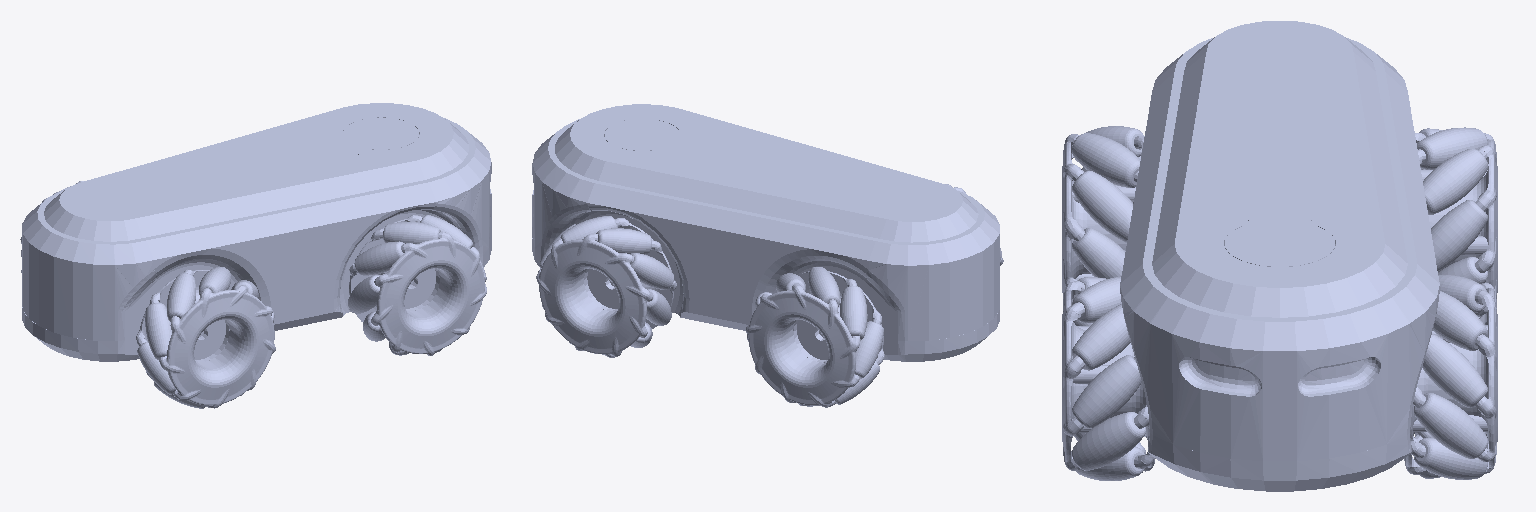
The robot description file, URDF, robot "ilo-urdf-7":
<?xml version="1.0" encoding="utf-8"?>
<!-- This URDF was automatically created by SolidWorks to URDF Exporter! Originally created by [author] ([email redacted]) 
     Commit Version: 1.6.0-1-g15f4949  Build Version: 1.6.7594.29634
     For more information, please see http://wiki.ros.org/sw_urdf_exporter -->
<robot
  name="ilo-urdf-7">
  <link
    name="base_link">
    <inertial>
      <origin
        xyz="0.00490783420918746 -5.30469796700128E-08 0.0315729776765226"
        rpy="0 0 0" />
      <mass
        value="0.250307144757034" />
      <inertia
        ixx="0.000213473192530182"
        ixy="4.01374626621353E-09"
        ixz="4.02178711493103E-07"
        iyy="0.00114651762472442"
        iyz="-7.2199668923163E-11"
        izz="0.00132229377723203" />
    </inertial>
    <visual>
      <origin
        xyz="0 0 0"
        rpy="0 0 0" />
      <geometry>
        <mesh
          filename="package://ilo-urdf-7/meshes/base_link.STL" />
      </geometry>
      <material
        name="">
        <color
          rgba="0.792156862745098 0.819607843137255 0.933333333333333 1" />
      </material>
    </visual>
    <collision>
      <origin
        xyz="0 0 0"
        rpy="0 0 0" />
      <geometry>
        <mesh
          filename="package://ilo-urdf-7/meshes/base_link.STL" />
      </geometry>
    </collision>
  </link>
  <link
    name="link1">
    <inertial>
      <origin
        xyz="1.11045059586756E-05 1.03928027443689E-05 -0.0179367481605297"
        rpy="0 0 0" />
      <mass
        value="0.0444760076473146" />
      <inertia
        ixx="4.7788268171649E-06"
        ixy="-3.2745602324075E-09"
        ixz="1.03909048511462E-10"
        iyy="4.77595974599419E-06"
        iyz="8.60070886222724E-11"
        izz="7.75483825455209E-06" />
    </inertial>
    <visual>
      <origin
        xyz="0 0 0"
        rpy="0 0 0" />
      <geometry>
        <mesh
          filename="package://ilo-urdf-7/meshes/link1.STL" />
      </geometry>
      <material
        name="">
        <color
          rgba="0.792156862745098 0.819607843137255 0.933333333333333 1" />
      </material>
    </visual>
    <collision>
      <origin
        xyz="0 0 0"
        rpy="0 0 0" />
      <geometry>
        <mesh
          filename="package://ilo-urdf-7/meshes/link1.STL" />
      </geometry>
    </collision>
  </link>
  <joint
    name="wheel-BR"
    type="continuous">
    <origin
      xyz="-0.056 -0.034 0.0136"
      rpy="-1.5708 -0.56296 0" />
    <parent
      link="base_link" />
    <child
      link="link1" />
    <axis
      xyz="0 0 1" />
  </joint>
  <link
    name="link2">
    <inertial>
      <origin
        xyz="1.11050020291936E-05 1.03925947268213E-05 0.0163580139726555"
        rpy="0 0 0" />
      <mass
        value="0.0444760065822957" />
      <inertia
        ixx="4.77882675709365E-06"
        ixy="-3.27470608223607E-09"
        ixz="1.03956878758499E-10"
        iyy="4.77595930805196E-06"
        iyz="8.59883541902259E-11"
        izz="7.75483776984197E-06" />
    </inertial>
    <visual>
      <origin
        xyz="0 0 0"
        rpy="0 0 0" />
      <geometry>
        <mesh
          filename="package://ilo-urdf-7/meshes/link2.STL" />
      </geometry>
      <material
        name="">
        <color
          rgba="0.792156862745098 0.819607843137255 0.933333333333333 1" />
      </material>
    </visual>
    <collision>
      <origin
        xyz="0 0 0"
        rpy="0 0 0" />
      <geometry>
        <mesh
          filename="package://ilo-urdf-7/meshes/link2.STL" />
      </geometry>
    </collision>
  </link>
  <joint
    name="wheel-FL"
    type="continuous">
    <origin
      xyz="0.054 0.068295 0.0136"
      rpy="-1.5708 1.0163 3.1416" />
    <parent
      link="base_link" />
    <child
      link="link2" />
    <axis
      xyz="0 0 -1" />
  </joint>
  <link
    name="link3">
    <inertial>
      <origin
        xyz="1.1104523000266E-05 1.03922513332855E-05 -0.0163580097013963"
        rpy="0 0 0" />
      <mass
        value="0.0444755630334847" />
      <inertia
        ixx="4.7787714178547E-06"
        ixy="-3.2747677000643E-09"
        ixz="-1.03898041524732E-10"
        iyy="4.7759048487278E-06"
        iyz="-8.60127606414989E-11"
        izz="7.75473370758875E-06" />
    </inertial>
    <visual>
      <origin
        xyz="0 0 0"
        rpy="0 0 0" />
      <geometry>
        <mesh
          filename="package://ilo-urdf-7/meshes/link3.STL" />
      </geometry>
      <material
        name="">
        <color
          rgba="0.792156862745098 0.819607843137255 0.933333333333333 1" />
      </material>
    </visual>
    <collision>
      <origin
        xyz="0 0 0"
        rpy="0 0 0" />
      <geometry>
        <mesh
          filename="package://ilo-urdf-7/meshes/link3.STL" />
      </geometry>
    </collision>
  </link>
  <joint
    name="wheel-BL"
    type="continuous">
    <origin
      xyz="-0.056 0.068295 0.0136"
      rpy="1.5708 -1.5464 3.1416" />
    <parent
      link="base_link" />
    <child
      link="link3" />
    <axis
      xyz="0 0 1" />
  </joint>
  <link
    name="link4">
    <inertial>
      <origin
        xyz="1.11047664756586E-05 1.03922006593204E-05 0.0179367520983216"
        rpy="0 0 0" />
      <mass
        value="0.0444755630006394" />
      <inertia
        ixx="4.77877148608738E-06"
        ixy="-3.27468260665288E-09"
        ixz="-1.03892097388522E-10"
        iyy="4.77590476496781E-06"
        iyz="-8.60006395173879E-11"
        izz="7.75473369195022E-06" />
    </inertial>
    <visual>
      <origin
        xyz="0 0 0"
        rpy="0 0 0" />
      <geometry>
        <mesh
          filename="package://ilo-urdf-7/meshes/link4.STL" />
      </geometry>
      <material
        name="">
        <color
          rgba="0.792156862745098 0.819607843137255 0.933333333333333 1" />
      </material>
    </visual>
    <collision>
      <origin
        xyz="0 0 0"
        rpy="0 0 0" />
      <geometry>
        <mesh
          filename="package://ilo-urdf-7/meshes/link4.STL" />
      </geometry>
    </collision>
  </link>
  <joint
    name="wheel-FR"
    type="continuous">
    <origin
      xyz="0.054 -0.034 0.0136"
      rpy="-1.5708 0.068343 3.1416" />
    <parent
      link="base_link" />
    <child
      link="link4" />
    <axis
      xyz="0 0 -1" />
  </joint>
</robot>

--- Render facts (derived) ---
3 views of the same robot in one strip: view 1: azimuth 30°, elevation 25°; view 2: azimuth 150°, elevation 25°; view 3: azimuth 270°, elevation 25° (orthographic).
Robot: ilo-urdf-7 — 5 links, 4 joints (4 continuous); root link base_link; default pose: every joint at zero.
Visible links, largest first — view 1: base_link, link4, link1; view 2: base_link, link3, link2; view 3: base_link, link2, link4, link3, link1.
Link boxes in pixels (x1,y1,x2,y2): base_link: (22, 103, 491, 361); link4: (348, 215, 486, 355); link1: (136, 267, 275, 408); base_link: (532, 104, 999, 361); link3: (746, 267, 884, 407); link2: (536, 216, 676, 357); base_link: (1120, 21, 1439, 491); link2: (1404, 275, 1497, 479); link4: (1062, 276, 1155, 480); link3: (1415, 127, 1497, 317); link1: (1062, 126, 1144, 298).
Bounding box of the posed robot: 0.2317 × 0.1365 × 0.0843 m (x, y, z).
5 mesh visuals loaded from 5 distinct referenced files (5 binary STL).